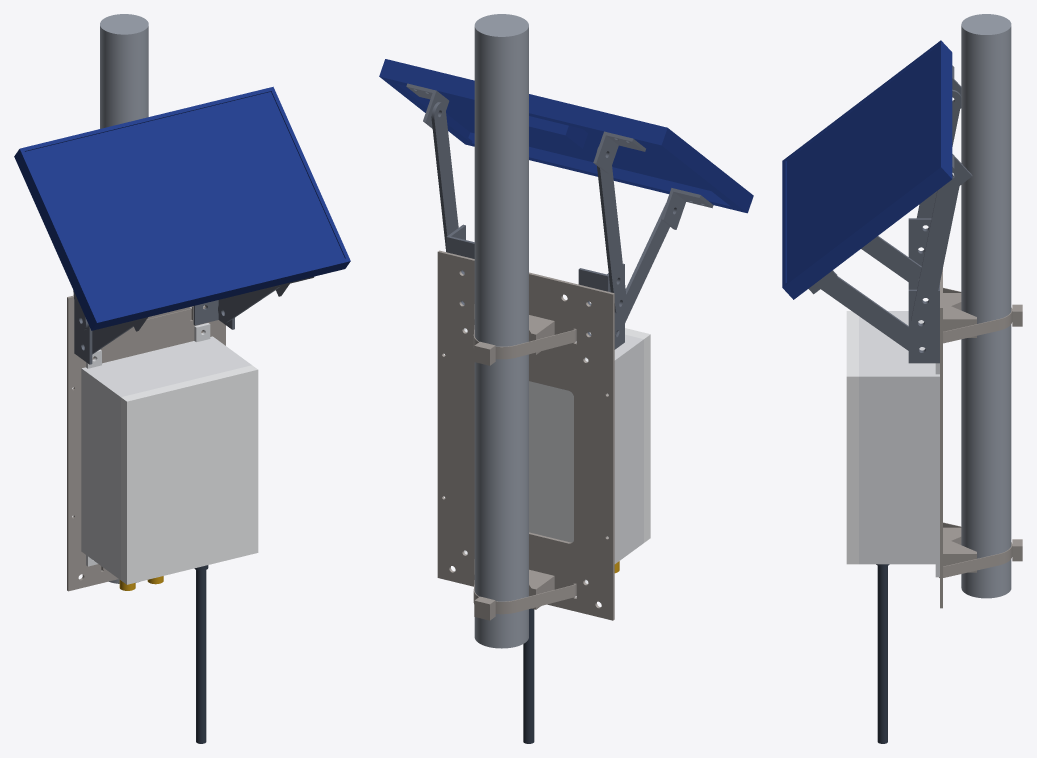
3 renders of one model, left to right at view 1: azimuth 30°, elevation 25°; view 2: azimuth 150°, elevation 25°; view 3: azimuth 270°, elevation 25°, orthographic. The views are drawn at different scales.
Parts seen in each view (by area): view 1: Solar panel, 6 W, Enclosure lid with gasket, Enclosure body with vent and lugs, Pole mounting kit, Pole, 48 mm OD (site supplied), Panel tilt bracket, Antenna, sub-GHz whip; view 2: Pole mounting kit, Pole, 48 mm OD (site supplied), Solar panel, 6 W, Enclosure body with vent and lugs, Panel tilt bracket, Enclosure lid with gasket, Antenna, sub-GHz whip; view 3: Pole, 48 mm OD (site supplied), Solar panel, 6 W, Enclosure body with vent and lugs, Panel tilt bracket, Pole mounting kit, Enclosure lid with gasket, Antenna, sub-GHz whip.
Part boxes in pixels (x1=…): Solar panel, 6 W: x1=14, y1=86, x2=350, y2=330; Enclosure lid with gasket: x1=121, y1=365, x2=258, y2=584; Enclosure body with vent and lugs: x1=81, y1=323, x2=251, y2=579; Pole mounting kit: x1=67, y1=295, x2=225, y2=591; Pole, 48 mm OD (site supplied): x1=100, y1=14, x2=148, y2=583; Panel tilt bracket: x1=73, y1=276, x2=313, y2=364; Antenna, sub-GHz whip: x1=194, y1=565, x2=208, y2=743; Pole mounting kit: x1=437, y1=250, x2=614, y2=620; Pole, 48 mm OD (site supplied): x1=474, y1=14, x2=528, y2=648; Solar panel, 6 W: x1=379, y1=59, x2=753, y2=213; Enclosure body with vent and lugs: x1=464, y1=328, x2=643, y2=583; Panel tilt bracket: x1=406, y1=83, x2=713, y2=349; Enclosure lid with gasket: x1=625, y1=328, x2=650, y2=542; Antenna, sub-GHz whip: x1=523, y1=608, x2=534, y2=743; Pole, 48 mm OD (site supplied): x1=961, y1=14, x2=1011, y2=598; Solar panel, 6 W: x1=782, y1=40, x2=952, y2=299; Enclosure body with vent and lugs: x1=859, y1=311, x2=939, y2=577; Panel tilt bracket: x1=808, y1=65, x2=972, y2=363; Pole mounting kit: x1=939, y1=269, x2=1022, y2=608; Enclosure lid with gasket: x1=846, y1=311, x2=858, y2=564; Antenna, sub-GHz whip: x1=876, y1=564, x2=889, y2=743.
Bounding box in the file's own units: 0.29 × 0.75 × 0.232.
